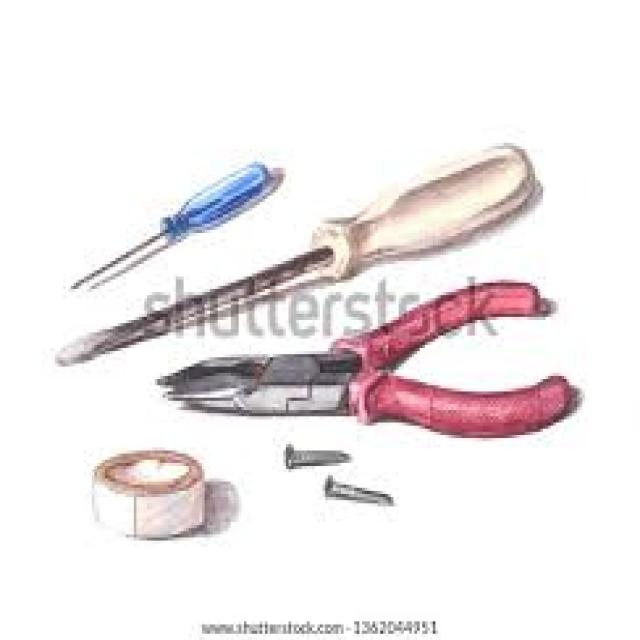Screwdriver: (56, 148, 540, 365), (75, 161, 284, 289)
